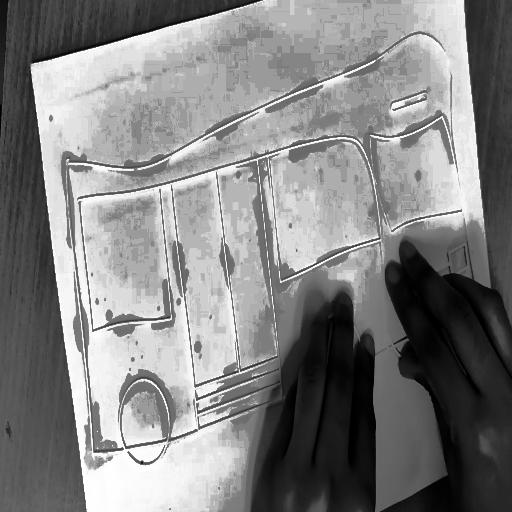bus: (0, 14, 512, 502)
top_left: (28, 61, 35, 74)
